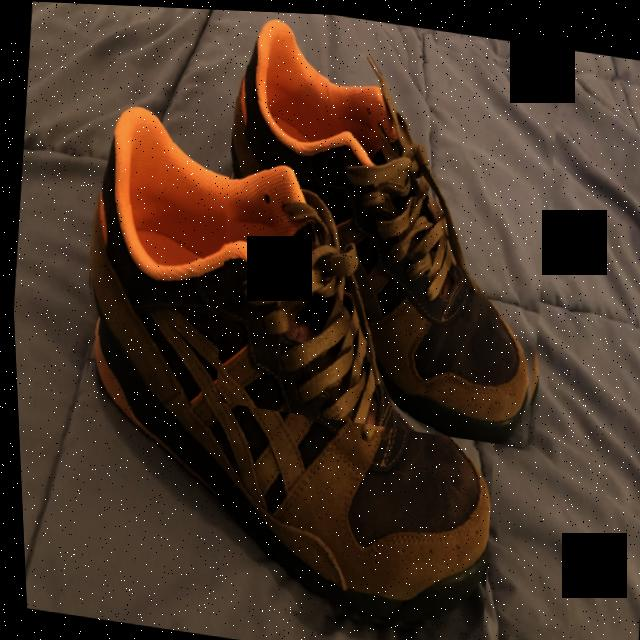shoe: (46, 96, 527, 640), (198, 8, 575, 447)
